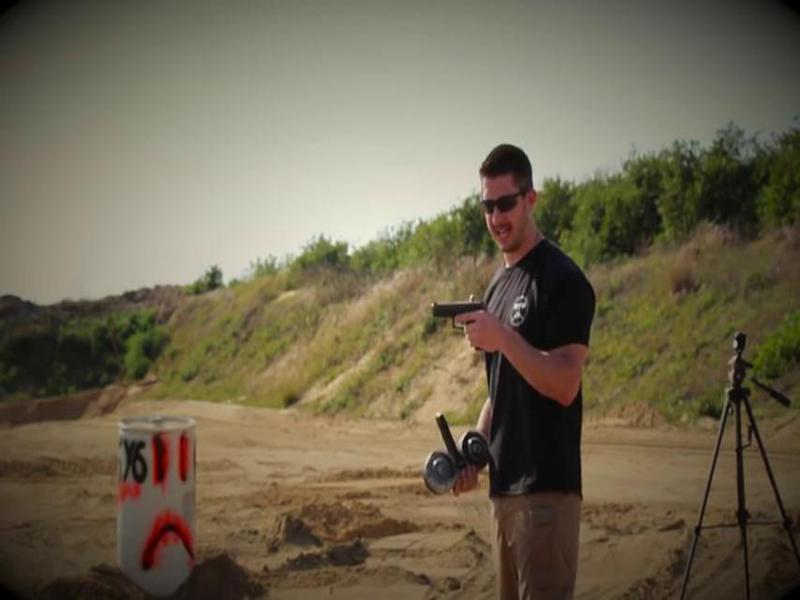Pistola: (422, 297, 511, 362)
